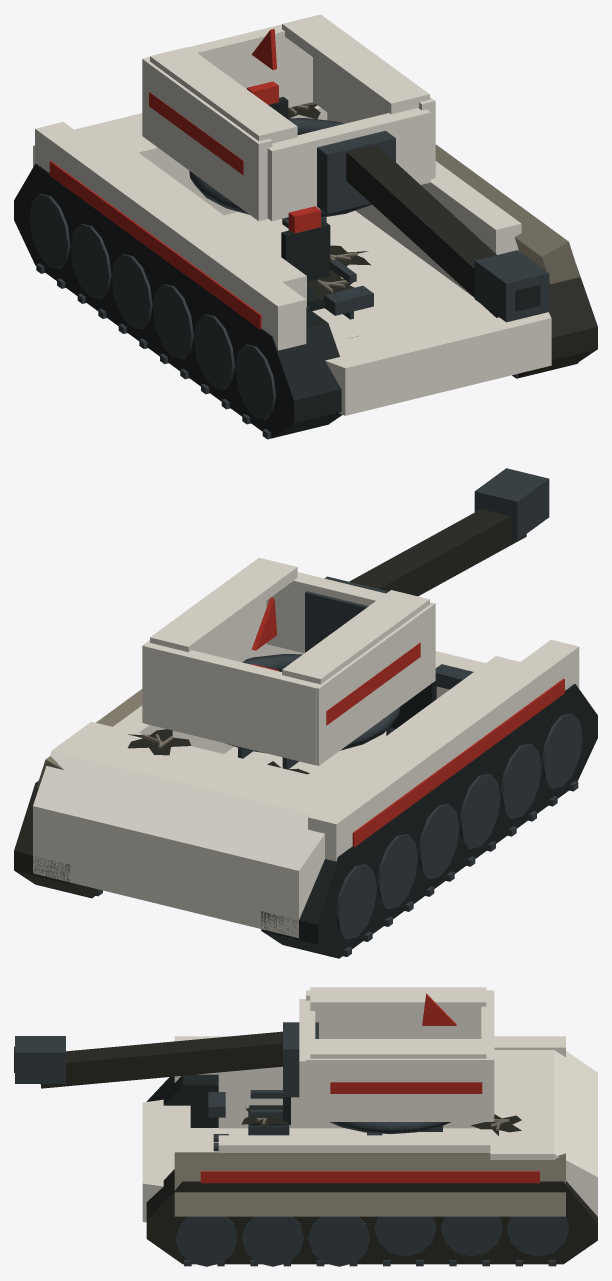
The picture shows the model from 3 angles, top to bottom: view 1: azimuth 30°, elevation 25°; view 2: azimuth 150°, elevation 25°; view 3: azimuth 270°, elevation 25°; orthographic projection. The views are drawn at different scales.
Parts seen in each view (by area): view 1: tank-damaged-fleet-armor, turret-fleet-armor, tank-damaged-fleet-rubber, tank-damaged-fleet-machine, barrel-fleet-damage-charred, barrel-fleet-machine, tank-damaged-fleet-damage-charred, crew-chair-driver-painted, tank-damaged-fleet-damage-metal, tank-damaged-fleet-red, turret-fleet-red, crew-chair-gunner-painted (+1 smaller); view 2: tank-damaged-fleet-armor, turret-fleet-armor, tank-damaged-fleet-machine, tank-damaged-fleet-rubber, barrel-fleet-damage-charred, barrel-fleet-machine, tank-damaged-fleet-red, tank-damaged-fleet-damage-charred, turret-fleet-red, crew-chair-driver-painted, tank-damaged-fleet-damage-metal; view 3: tank-damaged-fleet-armor, turret-fleet-armor, tank-damaged-fleet-damage-metal, tank-damaged-fleet-machine, tank-damaged-fleet-damage-charred, barrel-fleet-damage-charred, tank-damaged-fleet-red, barrel-fleet-machine, turret-fleet-red, tank-damaged-fleet-rubber, crew-chair-driver-painted.
Boxes of the visible parts, x1,y1,x2,y2 form: tank-damaged-fleet-armor: (33,105,551,415); turret-fleet-armor: (142,14,435,221); tank-damaged-fleet-rubber: (14,163,342,438); tank-damaged-fleet-machine: (29,118,578,439); barrel-fleet-damage-charred: (346,144,498,317); barrel-fleet-machine: (317,130,549,322); tank-damaged-fleet-damage-charred: (288,104,597,377); crew-chair-driver-painted: (281,206,373,338); tank-damaged-fleet-damage-metal: (288,102,579,292); tank-damaged-fleet-red: (49,161,261,329); turret-fleet-red: (149,29,276,175); crew-chair-gunner-painted: (247,81,326,228); tank-damaged-fleet-armor: (33,639,579,938); turret-fleet-armor: (142,557,435,765); tank-damaged-fleet-machine: (96,654,582,956); tank-damaged-fleet-rubber: (261,684,597,958); barrel-fleet-damage-charred: (349,509,526,596); barrel-fleet-machine: (305,468,549,652); tank-damaged-fleet-red: (352,678,564,847); tank-damaged-fleet-damage-charred: (14,729,309,898); turret-fleet-red: (251,597,420,725); crew-chair-driver-painted: (386,664,473,735); tank-damaged-fleet-damage-metal: (36,689,173,788); tank-damaged-fleet-armor: (142,1036,597,1222); turret-fleet-armor: (299,987,494,1121); tank-damaged-fleet-damage-metal: (174,1118,565,1216); tank-damaged-fleet-machine: (175,1121,569,1266); tank-damaged-fleet-damage-charred: (146,1108,597,1264); barrel-fleet-damage-charred: (40,1031,282,1088); tank-damaged-fleet-red: (200,1171,539,1183); barrel-fleet-machine: (15,1022,318,1097); turret-fleet-red: (330,993,482,1093); tank-damaged-fleet-rubber: (146,1074,218,1127); crew-chair-driver-painted: (208,1090,290,1151).
Bounding box in the file's own units: 21.41 × 17.08 × 42.63.
